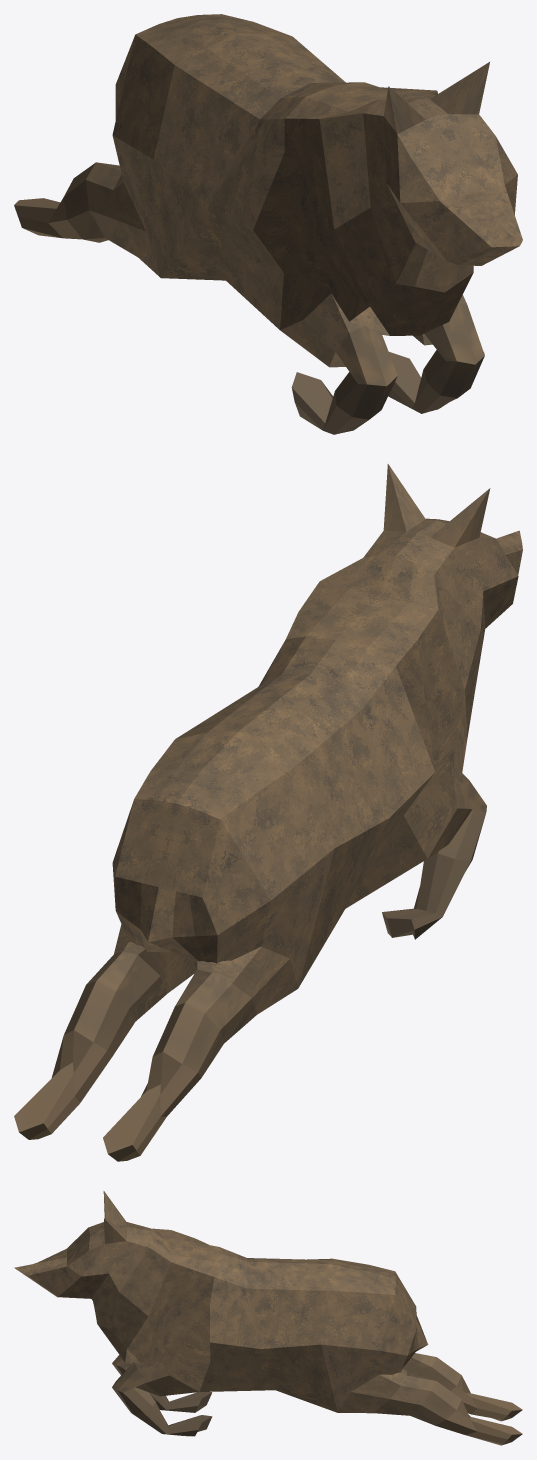
The model's file is piesblend_000021.obj.
3 views of the same model, one above another, from view 1: azimuth 30°, elevation 25°; view 2: azimuth 150°, elevation 25°; view 3: azimuth 270°, elevation 25° (orthographic). The views are drawn at different scales.
Visible parts, largest first — view 1: Cube; view 2: Cube; view 3: Cube.
Part boxes in pixels (x1,y1,x2,y2): Cube: (14,14,522,434); Cube: (14,464,522,1161); Cube: (14,1191,522,1445).
Bounding box in the file's own units: 2.56 × 5.57 × 11.18.
1 material, 1 textured.
